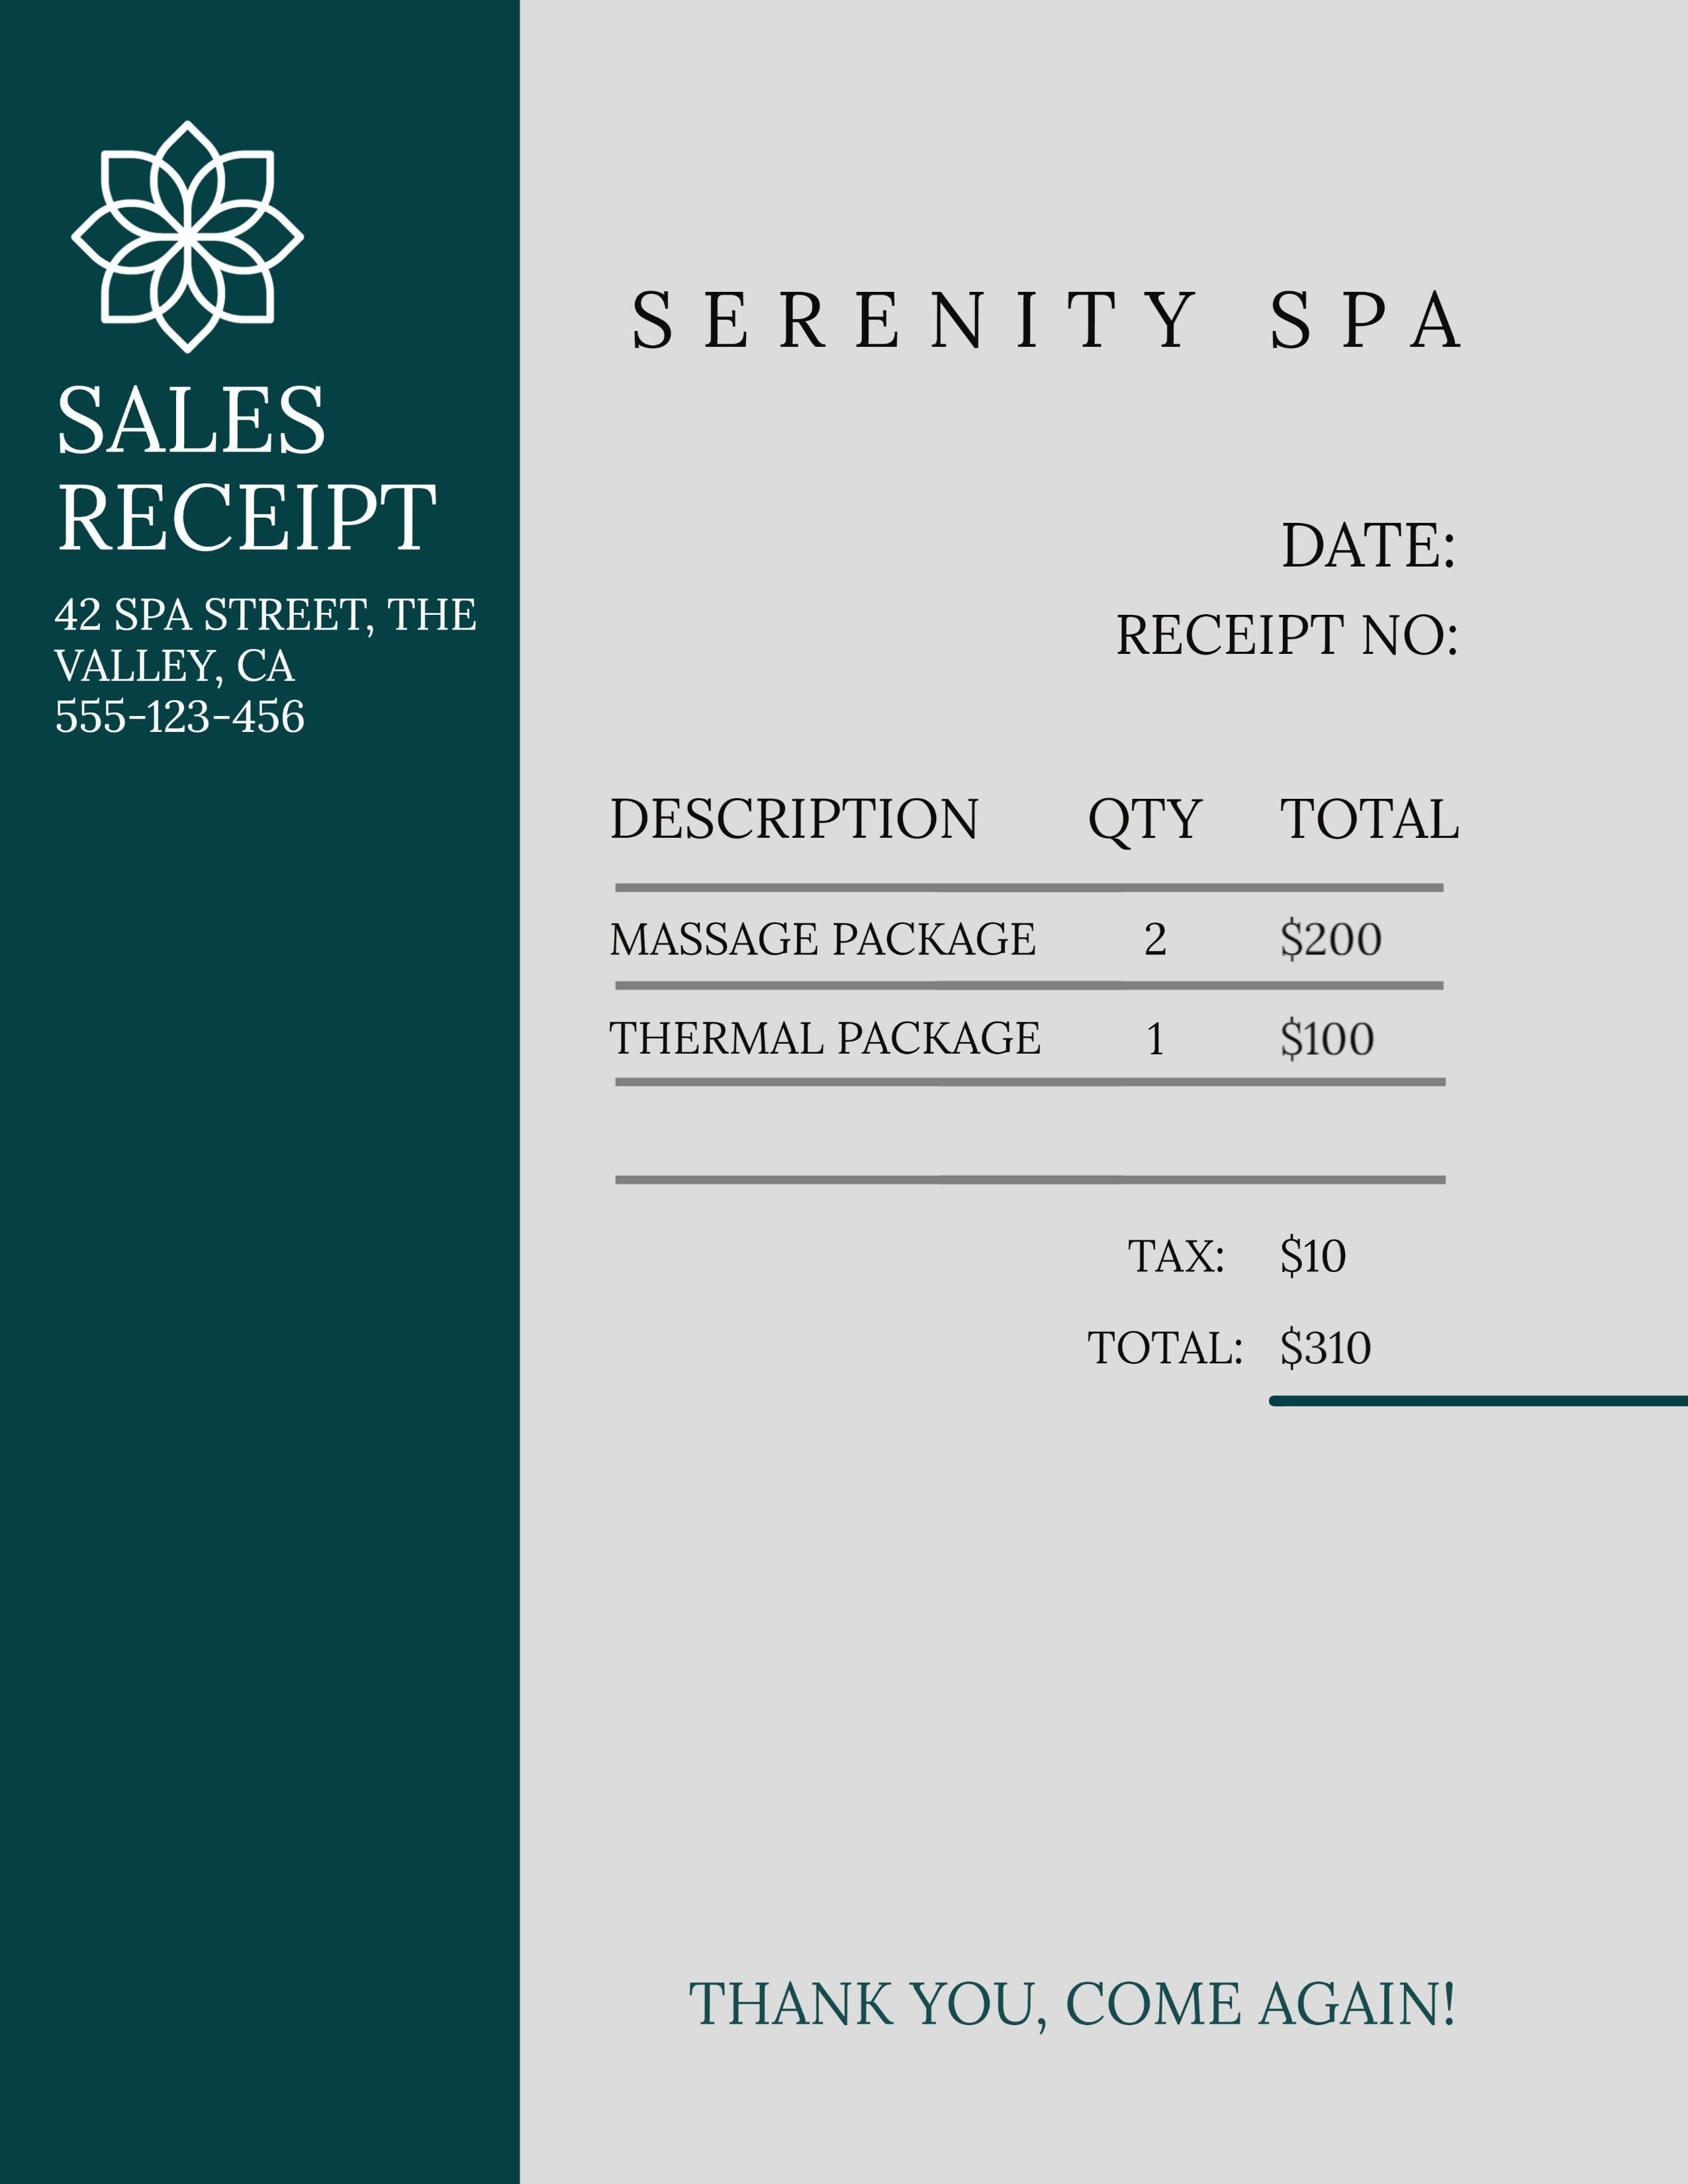ROI: (599, 784, 1448, 1180), (1086, 473, 1688, 705), (612, 251, 1505, 380), (1049, 1226, 1440, 1387)
